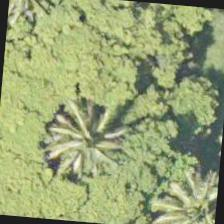Kelapa_Sawit: (34, 86, 132, 184), (161, 158, 220, 223)
